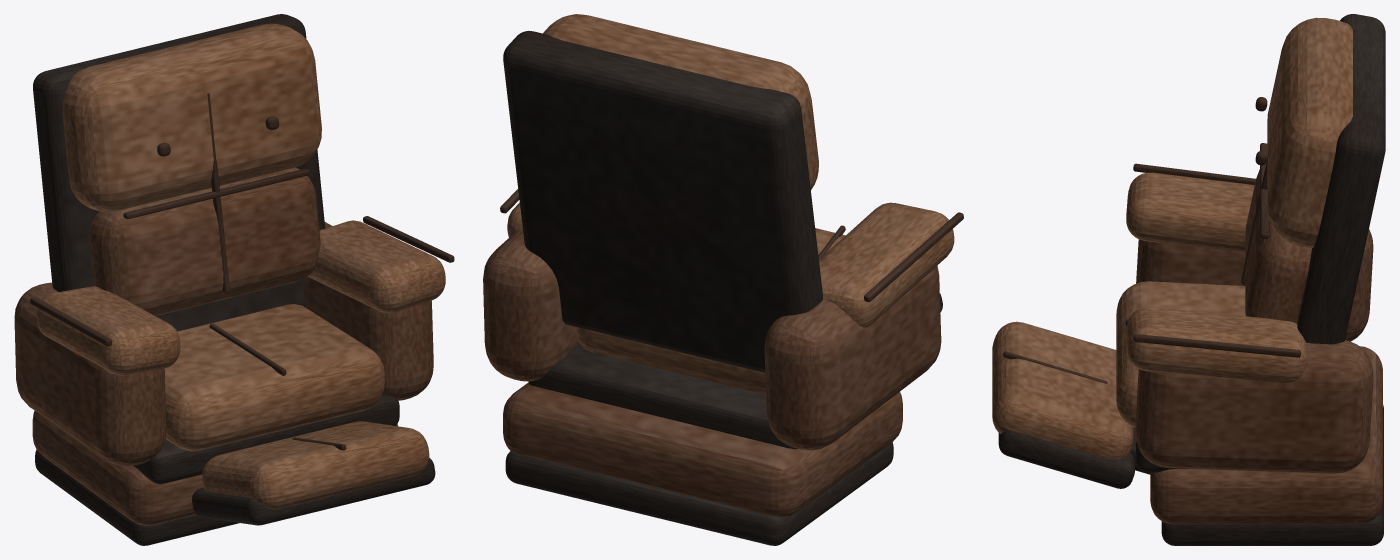
Rendered from refined-deterministic-recliner.glb.
3 renders of one model, left to right at view 1: azimuth 30°, elevation 25°; view 2: azimuth 150°, elevation 25°; view 3: azimuth 270°, elevation 25°, orthographic. The views are drawn at different scales.
Parts seen in each view (by area): view 1: back_cushion_upper, seat_cushion, back_cushion_lower, left_arm, back_frame, footrest_cushion, right_arm_cap, left_arm_cap, right_arm, base_skirt, seat_frame, footrest_frame (+6 smaller); view 2: back_frame, base_skirt, left_arm, base, seat_frame, right_arm, left_arm_cap, back_cushion_upper, seat_cushion, left_arm_piping; view 3: right_arm, back_cushion_upper, back_frame, footrest_cushion, base_skirt, right_arm_cap, left_arm_cap, left_arm, back_cushion_lower, seat_cushion, base, footrest_frame (+3 smaller).
Boxes of the visible parts, <box> form: back_cushion_upper: <box>62,23,321,212</box>; seat_cushion: <box>164,304,384,451</box>; back_cushion_lower: <box>89,167,320,316</box>; left_arm: <box>14,282,166,466</box>; back_frame: <box>33,14,325,331</box>; footrest_cushion: <box>202,421,429,509</box>; right_arm_cap: <box>307,220,445,313</box>; left_arm_cap: <box>36,286,180,375</box>; right_arm: <box>302,222,433,400</box>; base_skirt: <box>32,411,397,525</box>; seat_frame: <box>133,394,399,484</box>; footrest_frame: <box>192,458,435,525</box>; back_frame: <box>503,30,822,372</box>; base_skirt: <box>503,382,902,517</box>; left_arm: <box>764,265,941,450</box>; base: <box>505,442,893,545</box>; seat_frame: <box>528,344,797,449</box>; right_arm: <box>483,230,579,381</box>; left_arm_cap: <box>819,202,954,327</box>; back_cushion_upper: <box>543,14,818,190</box>; seat_cushion: <box>577,327,765,394</box>; left_arm_piping: <box>864,212,963,302</box>; right_arm: <box>1135,340,1373,473</box>; back_cushion_upper: <box>1267,17,1352,247</box>; back_frame: <box>1297,14,1385,344</box>; footrest_cushion: <box>992,321,1133,459</box>; base_skirt: <box>1150,346,1382,524</box>; right_arm_cap: <box>1126,306,1308,382</box>; left_arm_cap: <box>1126,172,1254,252</box>; left_arm: <box>1136,229,1373,341</box>; back_cushion_lower: <box>1245,169,1311,323</box>; seat_cushion: <box>1116,281,1245,427</box>; base: <box>1161,405,1383,545</box>; footrest_frame: <box>998,431,1134,488</box>.
Size of the model in its own units: 1.99 by 2.26 by 1.91.
4 materials, 4 textured.
